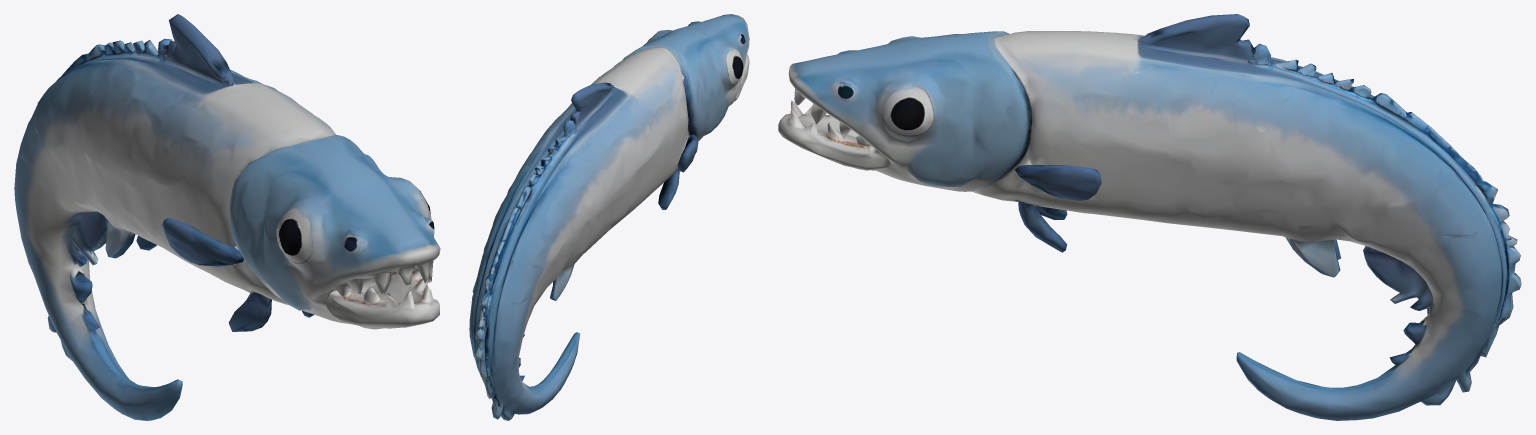
File: cutlass.glb
3 views of the same model, side by side, from view 1: azimuth 30°, elevation 25°; view 2: azimuth 150°, elevation 25°; view 3: azimuth 270°, elevation 25° (orthographic). The views are drawn at different scales.
Parts seen in each view (by area): view 1: tripo_node_8f7a5e98-e520-4e82-b6ad-cfe76d842317; view 2: tripo_node_8f7a5e98-e520-4e82-b6ad-cfe76d842317; view 3: tripo_node_8f7a5e98-e520-4e82-b6ad-cfe76d842317.
Boxes of the visible parts, x1,y1,x2,y2 form: tripo_node_8f7a5e98-e520-4e82-b6ad-cfe76d842317: [14, 14, 440, 420]; tripo_node_8f7a5e98-e520-4e82-b6ad-cfe76d842317: [469, 14, 749, 420]; tripo_node_8f7a5e98-e520-4e82-b6ad-cfe76d842317: [778, 14, 1521, 420].
Bounding box in the file's own units: 0.2648 × 0.6013 × 0.9994.
1 material, 1 textured.
